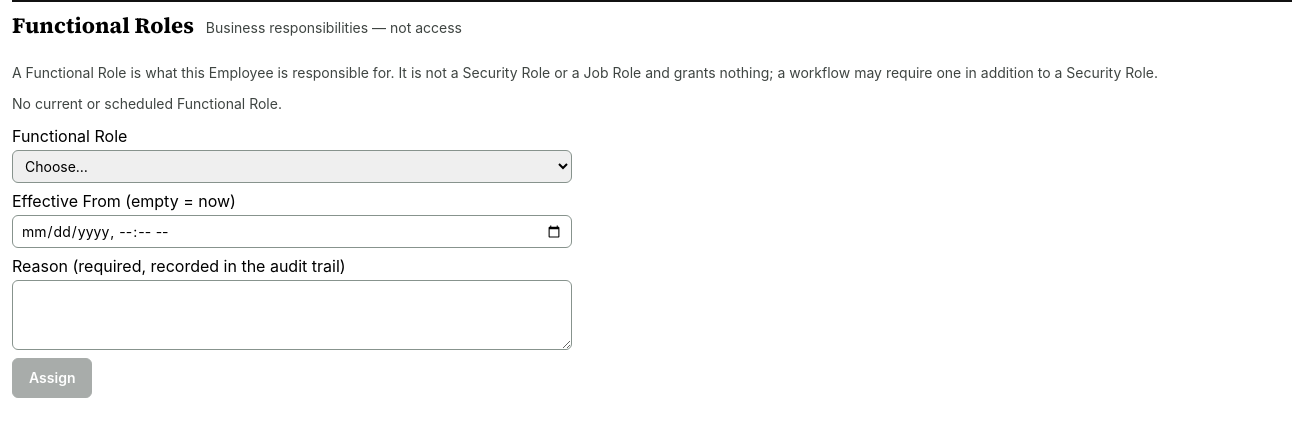
Test case: Employee > Functional Roles › assign sends the chosen role, the reason and the effective-from; the server's refusal is shown verbatim
Select "Warranty desk (warranty-desk)" in the dropdown named "Functional Role to assign" at (292, 167), box [12, 150, 572, 183]
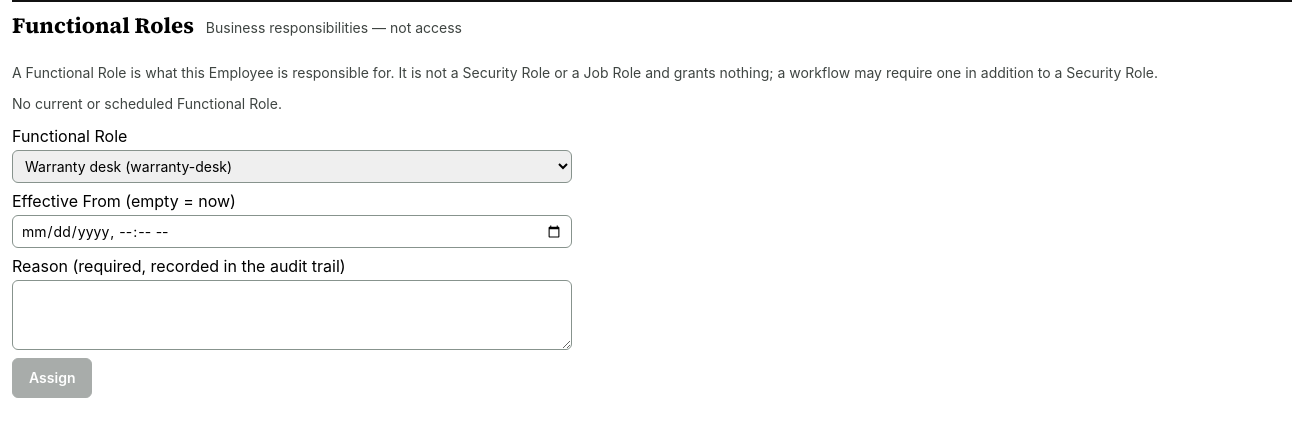
Type "owns claims" into the text box labelled "Reason".
click(292, 315); type("owns claims")  # box [12, 280, 572, 350]
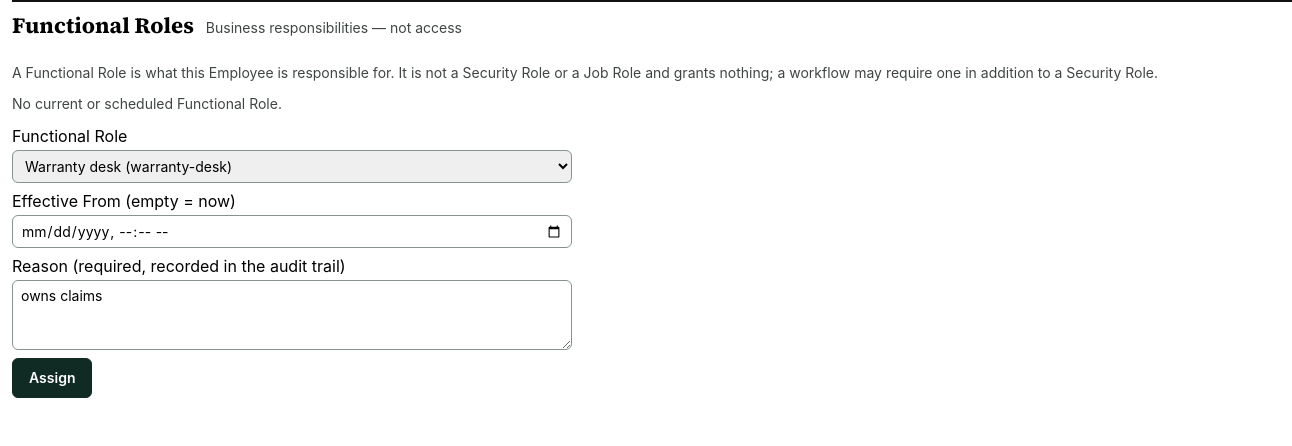
Submit the form named "Assign Functional Role", box [12, 126, 572, 398]
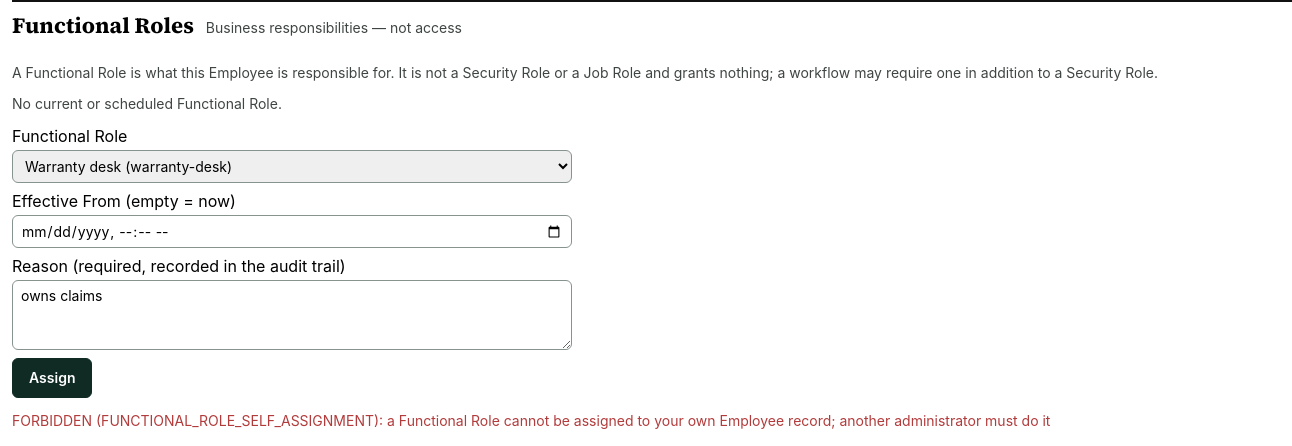
Check: the message shows "FORBIDDEN (FUNCTIONAL_ROLE_SELF_ASSIGNMENT): a Functional Role cannot be assigned to your own Employee record; another administrator must do it", box [12, 412, 1050, 429]
